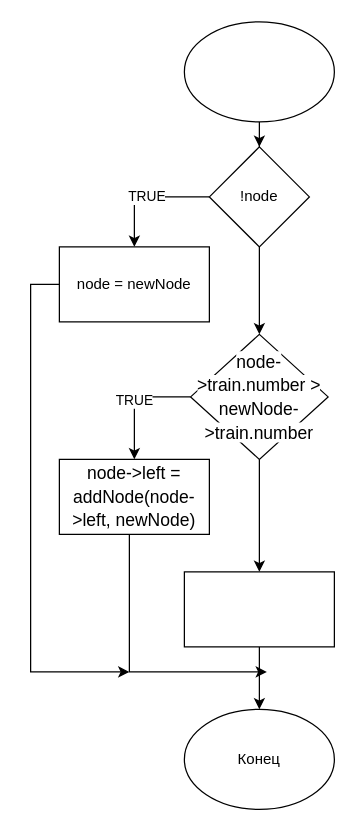
The diagram is 356 pixels wide and 831 high, and some of its shapes have lost their labels. Each missing label, with the centre of its shape:
"node->right = addNode(node->right, newNode)" belongs at [258,609].
"Начало addNode" belongs at [258,71].
